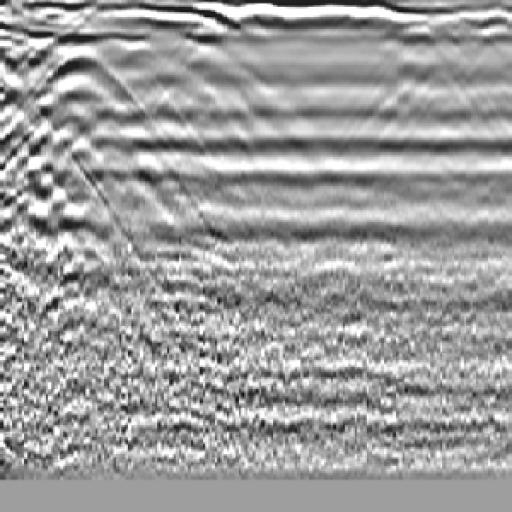non-metallic: (1, 33, 180, 237)
